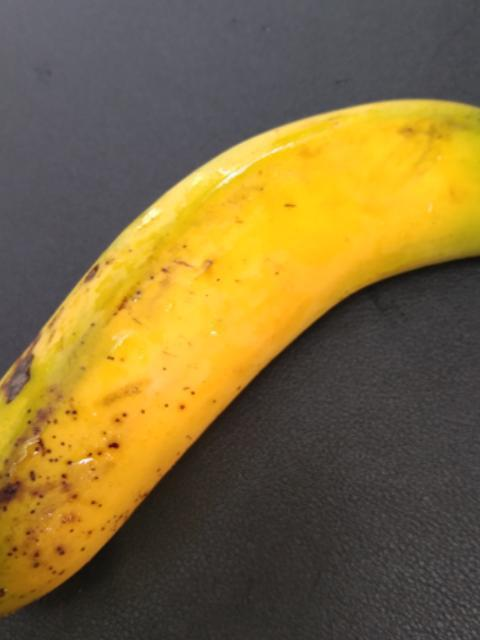ripe: (0, 93, 474, 635)
